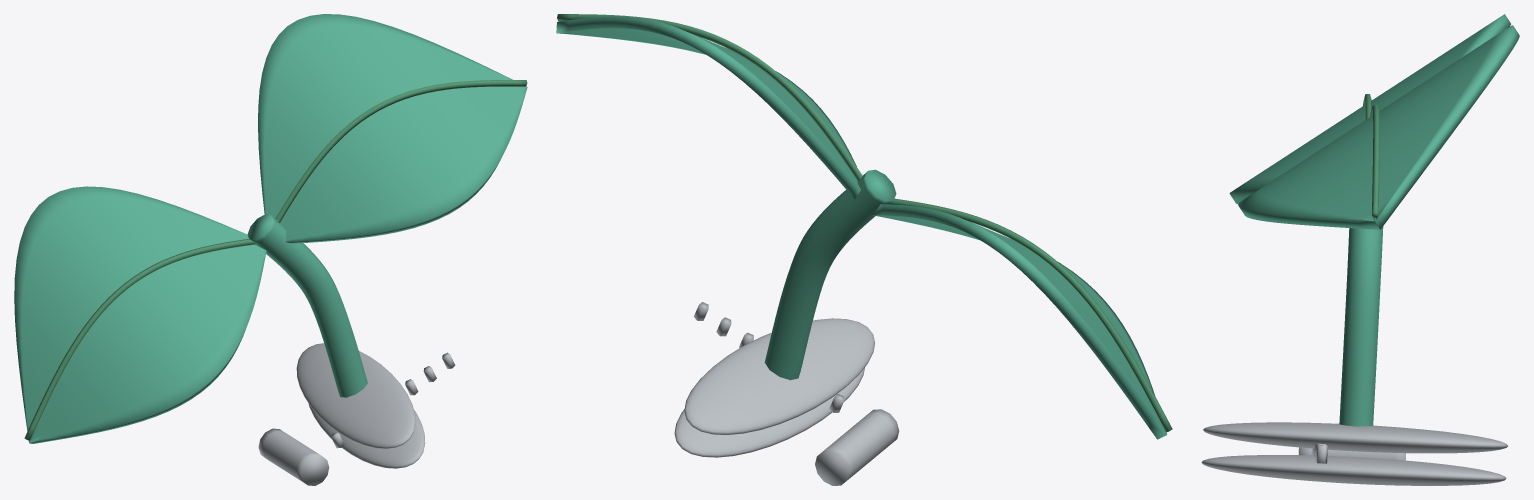
The model's file is Masculine-middle-part--cowboy-sprout.glb.
The picture shows the model from 3 angles, left to right: view 1: azimuth 30°, elevation 25°; view 2: azimuth 150°, elevation 25°; view 3: azimuth 270°, elevation 25°; orthographic projection. The views are drawn at different scales.
Visible parts, largest first — view 1: 226 extra / Accessory / mint226, 226 extra / Sprout / clip silver235, 226 extra / Sprout / leaf vein235; view 2: 226 extra / Accessory / mint226, 226 extra / Sprout / clip silver235, 226 extra / Sprout / leaf vein235; view 3: 226 extra / Accessory / mint226, 226 extra / Sprout / clip silver235, 226 extra / Sprout / leaf vein235.
Boxes of the visible parts, left/top/right/bottom form: 226 extra / Accessory / mint226: left=14, top=14, right=527, bottom=443; 226 extra / Sprout / clip silver235: left=258, top=343, right=455, bottom=485; 226 extra / Sprout / leaf vein235: left=24, top=80, right=527, bottom=440; 226 extra / Accessory / mint226: left=556, top=16, right=1167, bottom=439; 226 extra / Sprout / clip silver235: left=674, top=302, right=899, bottom=485; 226 extra / Sprout / leaf vein235: left=557, top=14, right=1172, bottom=432; 226 extra / Accessory / mint226: left=1229, top=14, right=1519, bottom=426; 226 extra / Sprout / clip silver235: left=1201, top=422, right=1507, bottom=485; 226 extra / Sprout / leaf vein235: left=1363, top=94, right=1379, bottom=218.
Size of the model in its own units: 0.2497 by 0.1842 by 0.1076.
